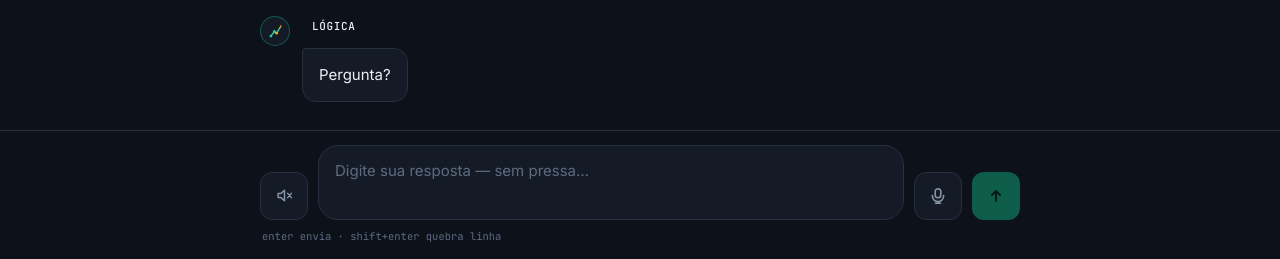
InterviewPage — gravação por voz › resultado final anexa ao texto base (sem separador quando draft vazio)
This screenshot has width=1280, height=259.
Expected: the text "Pergunta?" is shown, left=302, top=48, right=408, bottom=102
What coordinates should you click on to do the following:
click the button named "responder por voz"
I would click on:
 (938, 196)
Its box is left=914, top=172, right=962, bottom=220.
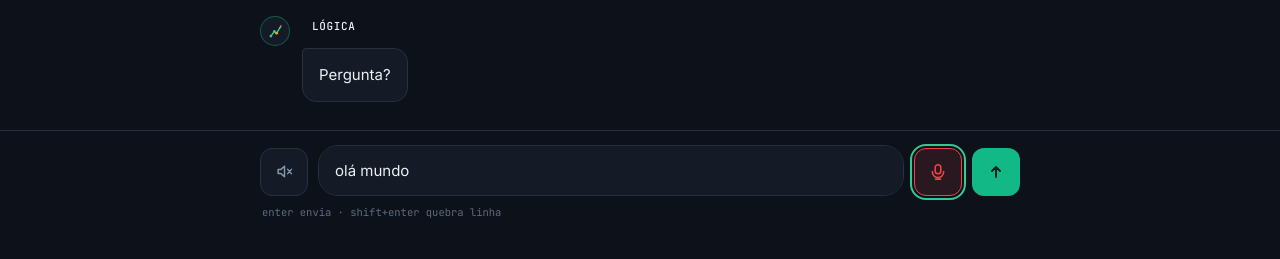
Expected: the text box named "sua resposta" holds "olá mundo", left=318, top=145, right=904, bottom=196
